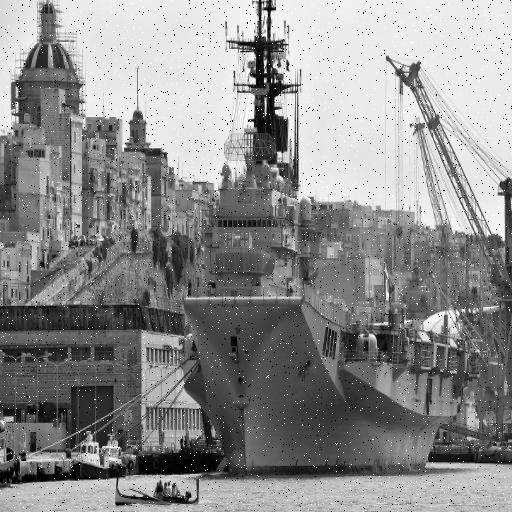Portanaves: (179, 1, 481, 483)
